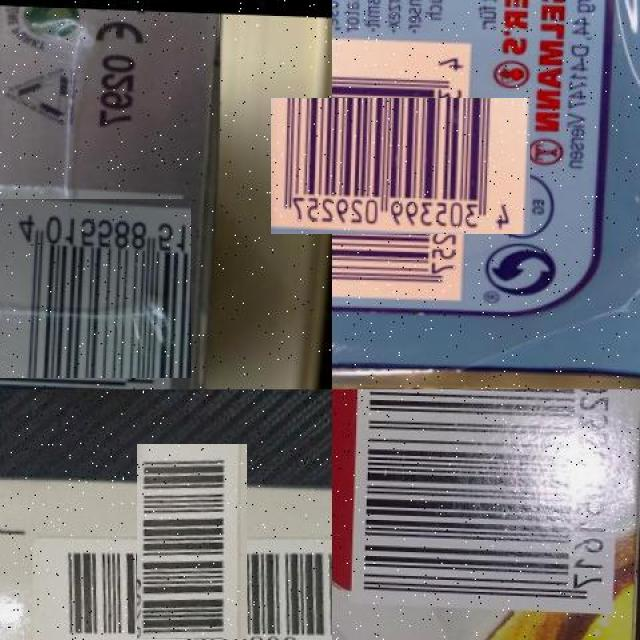Barcode: (348, 389, 623, 608), (301, 67, 499, 265), (0, 192, 185, 383), (94, 486, 289, 640)
